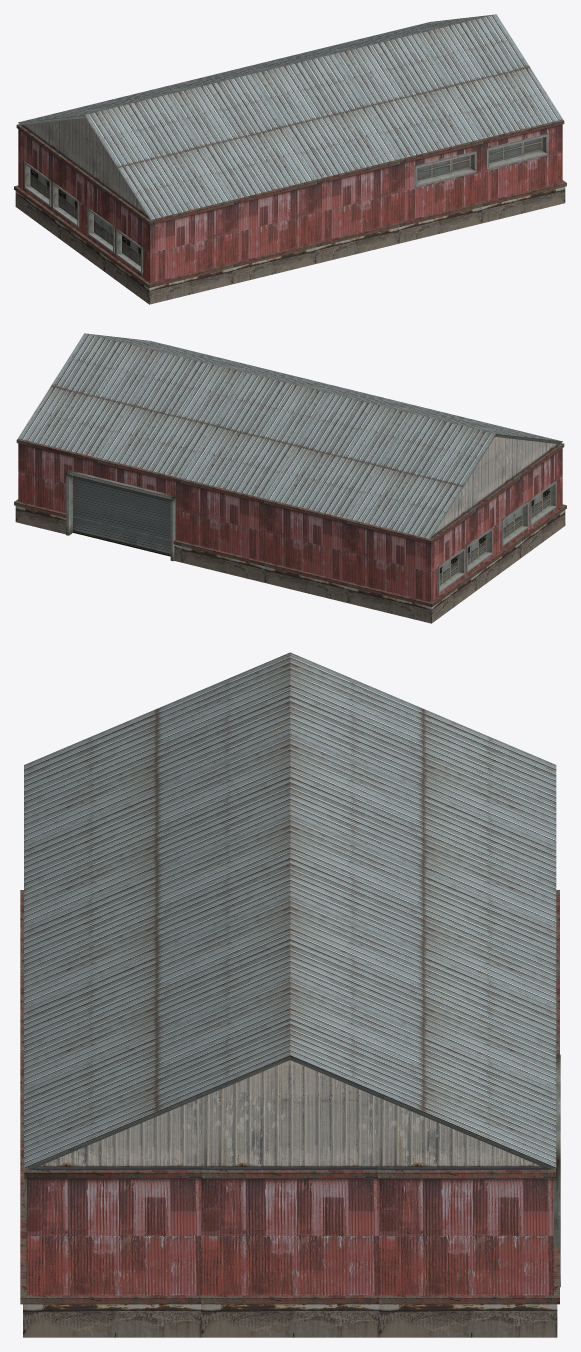
The model's file is Hangar_v2_2.FBX.
3 renders of one model, top to bottom at view 1: azimuth 30°, elevation 25°; view 2: azimuth 150°, elevation 25°; view 3: azimuth 270°, elevation 25°, orthographic. The views are drawn at different scales.
Parts seen in each view (by area): view 1: Hangar_v2_2; view 2: Hangar_v2_2; view 3: Hangar_v2_2.
Boxes of the visible parts, bbox=[...] form: Hangar_v2_2: bbox=[14, 14, 566, 304]; Hangar_v2_2: bbox=[14, 333, 566, 623]; Hangar_v2_2: bbox=[20, 652, 560, 1337].
Size of the model in its own units: 24.78 by 7.95 by 13.86.
